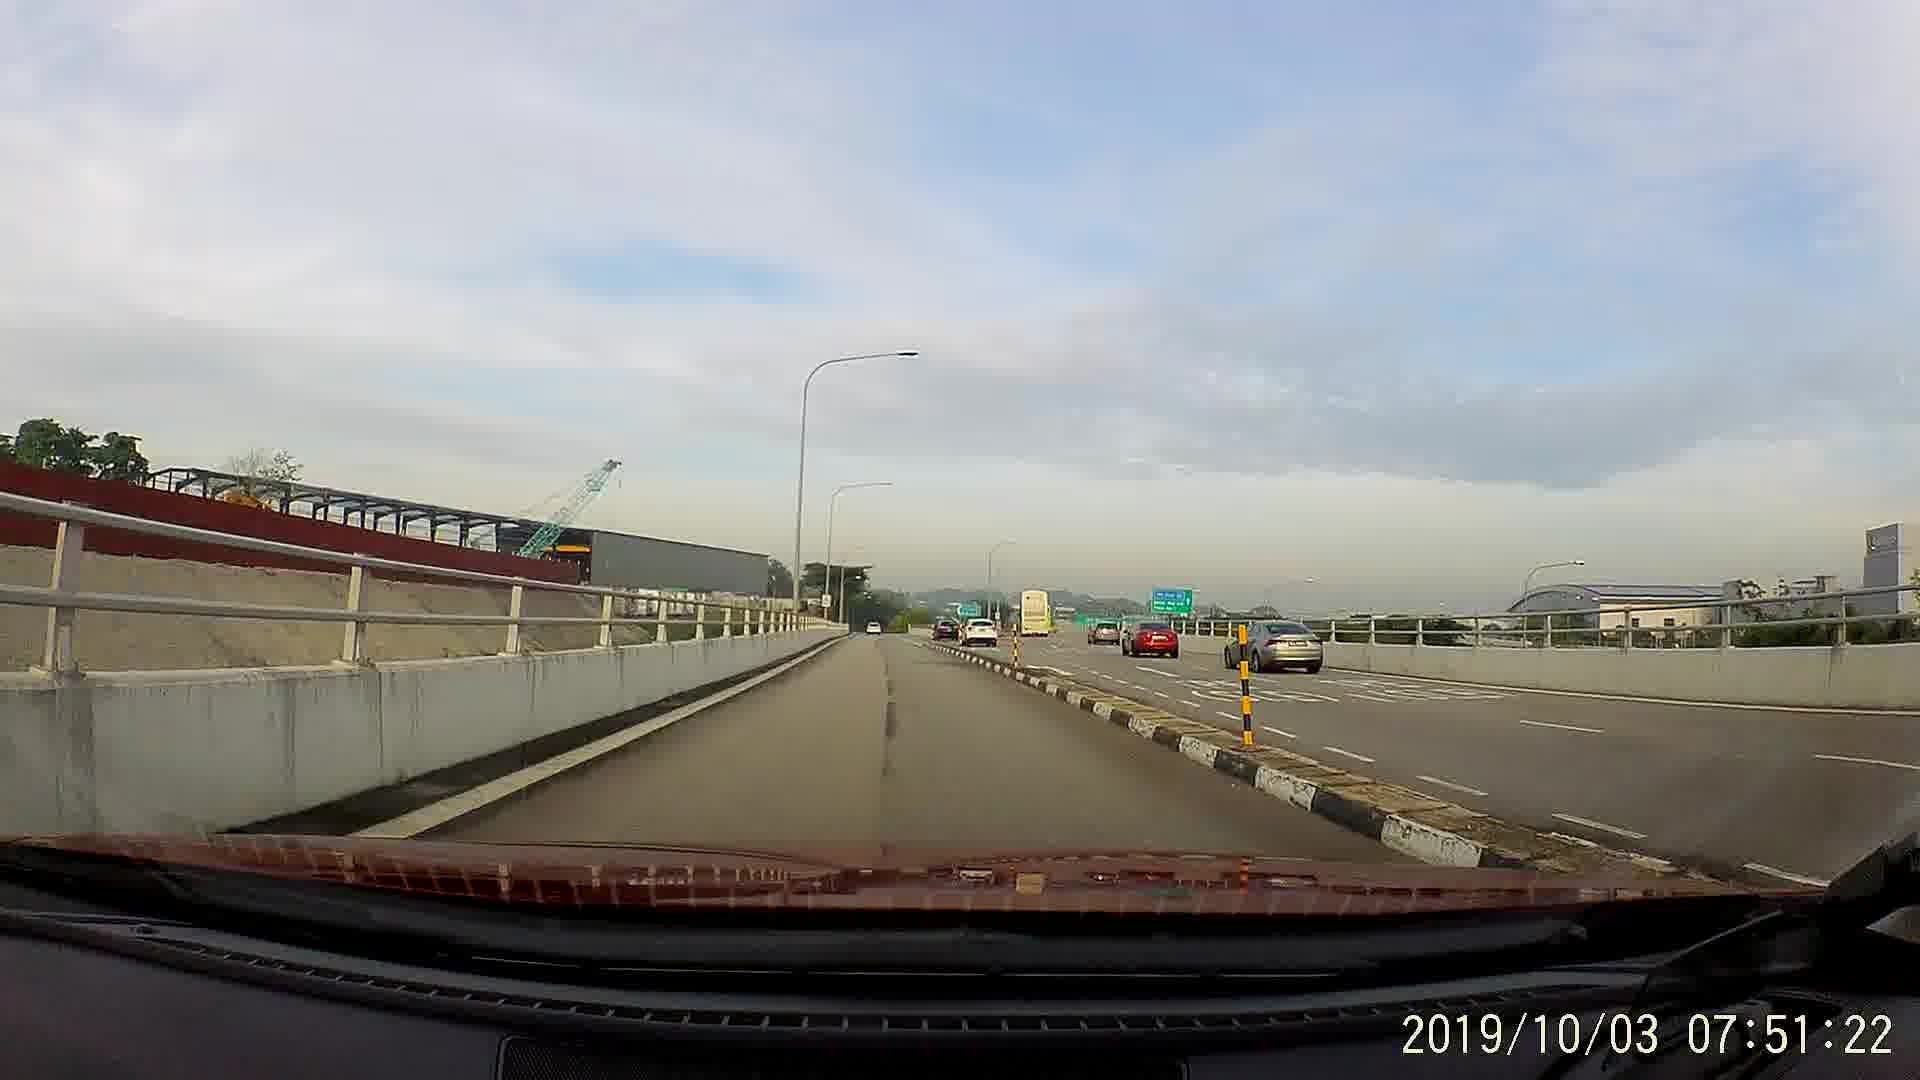bus: (1013, 584, 1056, 640)
car: (1222, 615, 1324, 673), (1120, 615, 1182, 659), (1087, 616, 1124, 650), (963, 616, 1000, 649), (932, 616, 963, 644), (862, 618, 882, 634)
